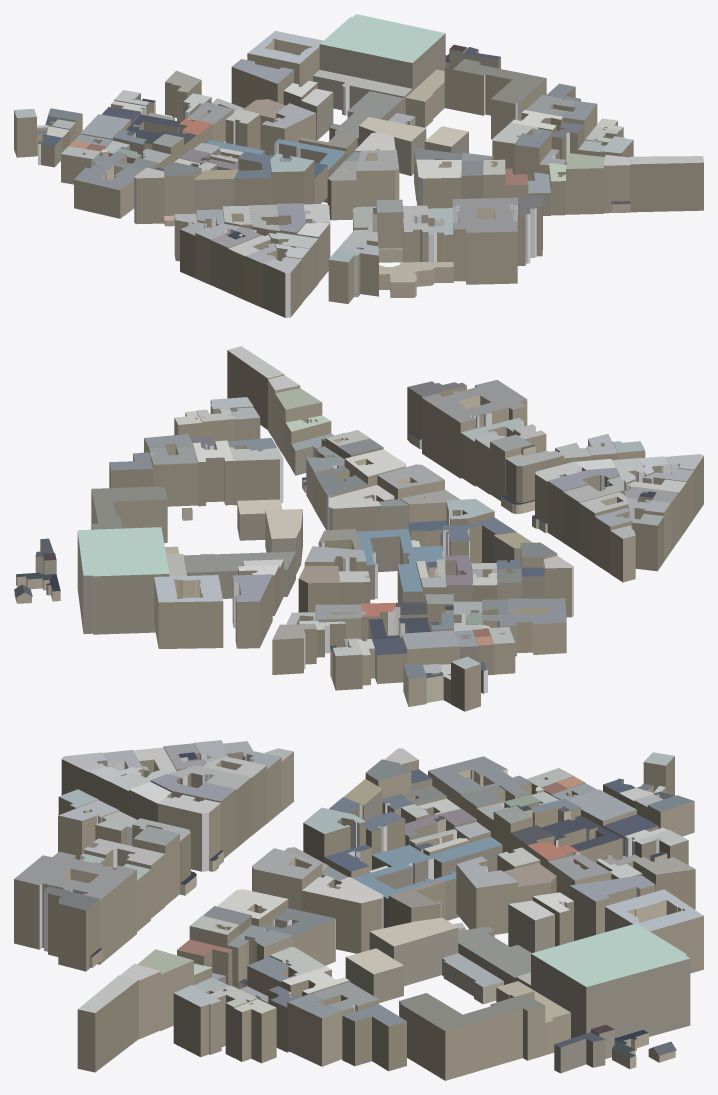
The picture shows the model from 3 angles, top to bottom: view 1: azimuth 30°, elevation 25°; view 2: azimuth 150°, elevation 25°; view 3: azimuth 270°, elevation 25°; orthographic projection. The views are drawn at different scales.
Visible parts, largest first — view 1: tuile; view 2: tuile; view 3: tuile.
Boxes of the visible parts, x1,y1,x2,y2 form: tuile: (14, 14, 703, 317); tuile: (14, 346, 703, 711); tuile: (14, 740, 703, 1080).
Size of the model in its own units: 279 by 36.65 by 285.
